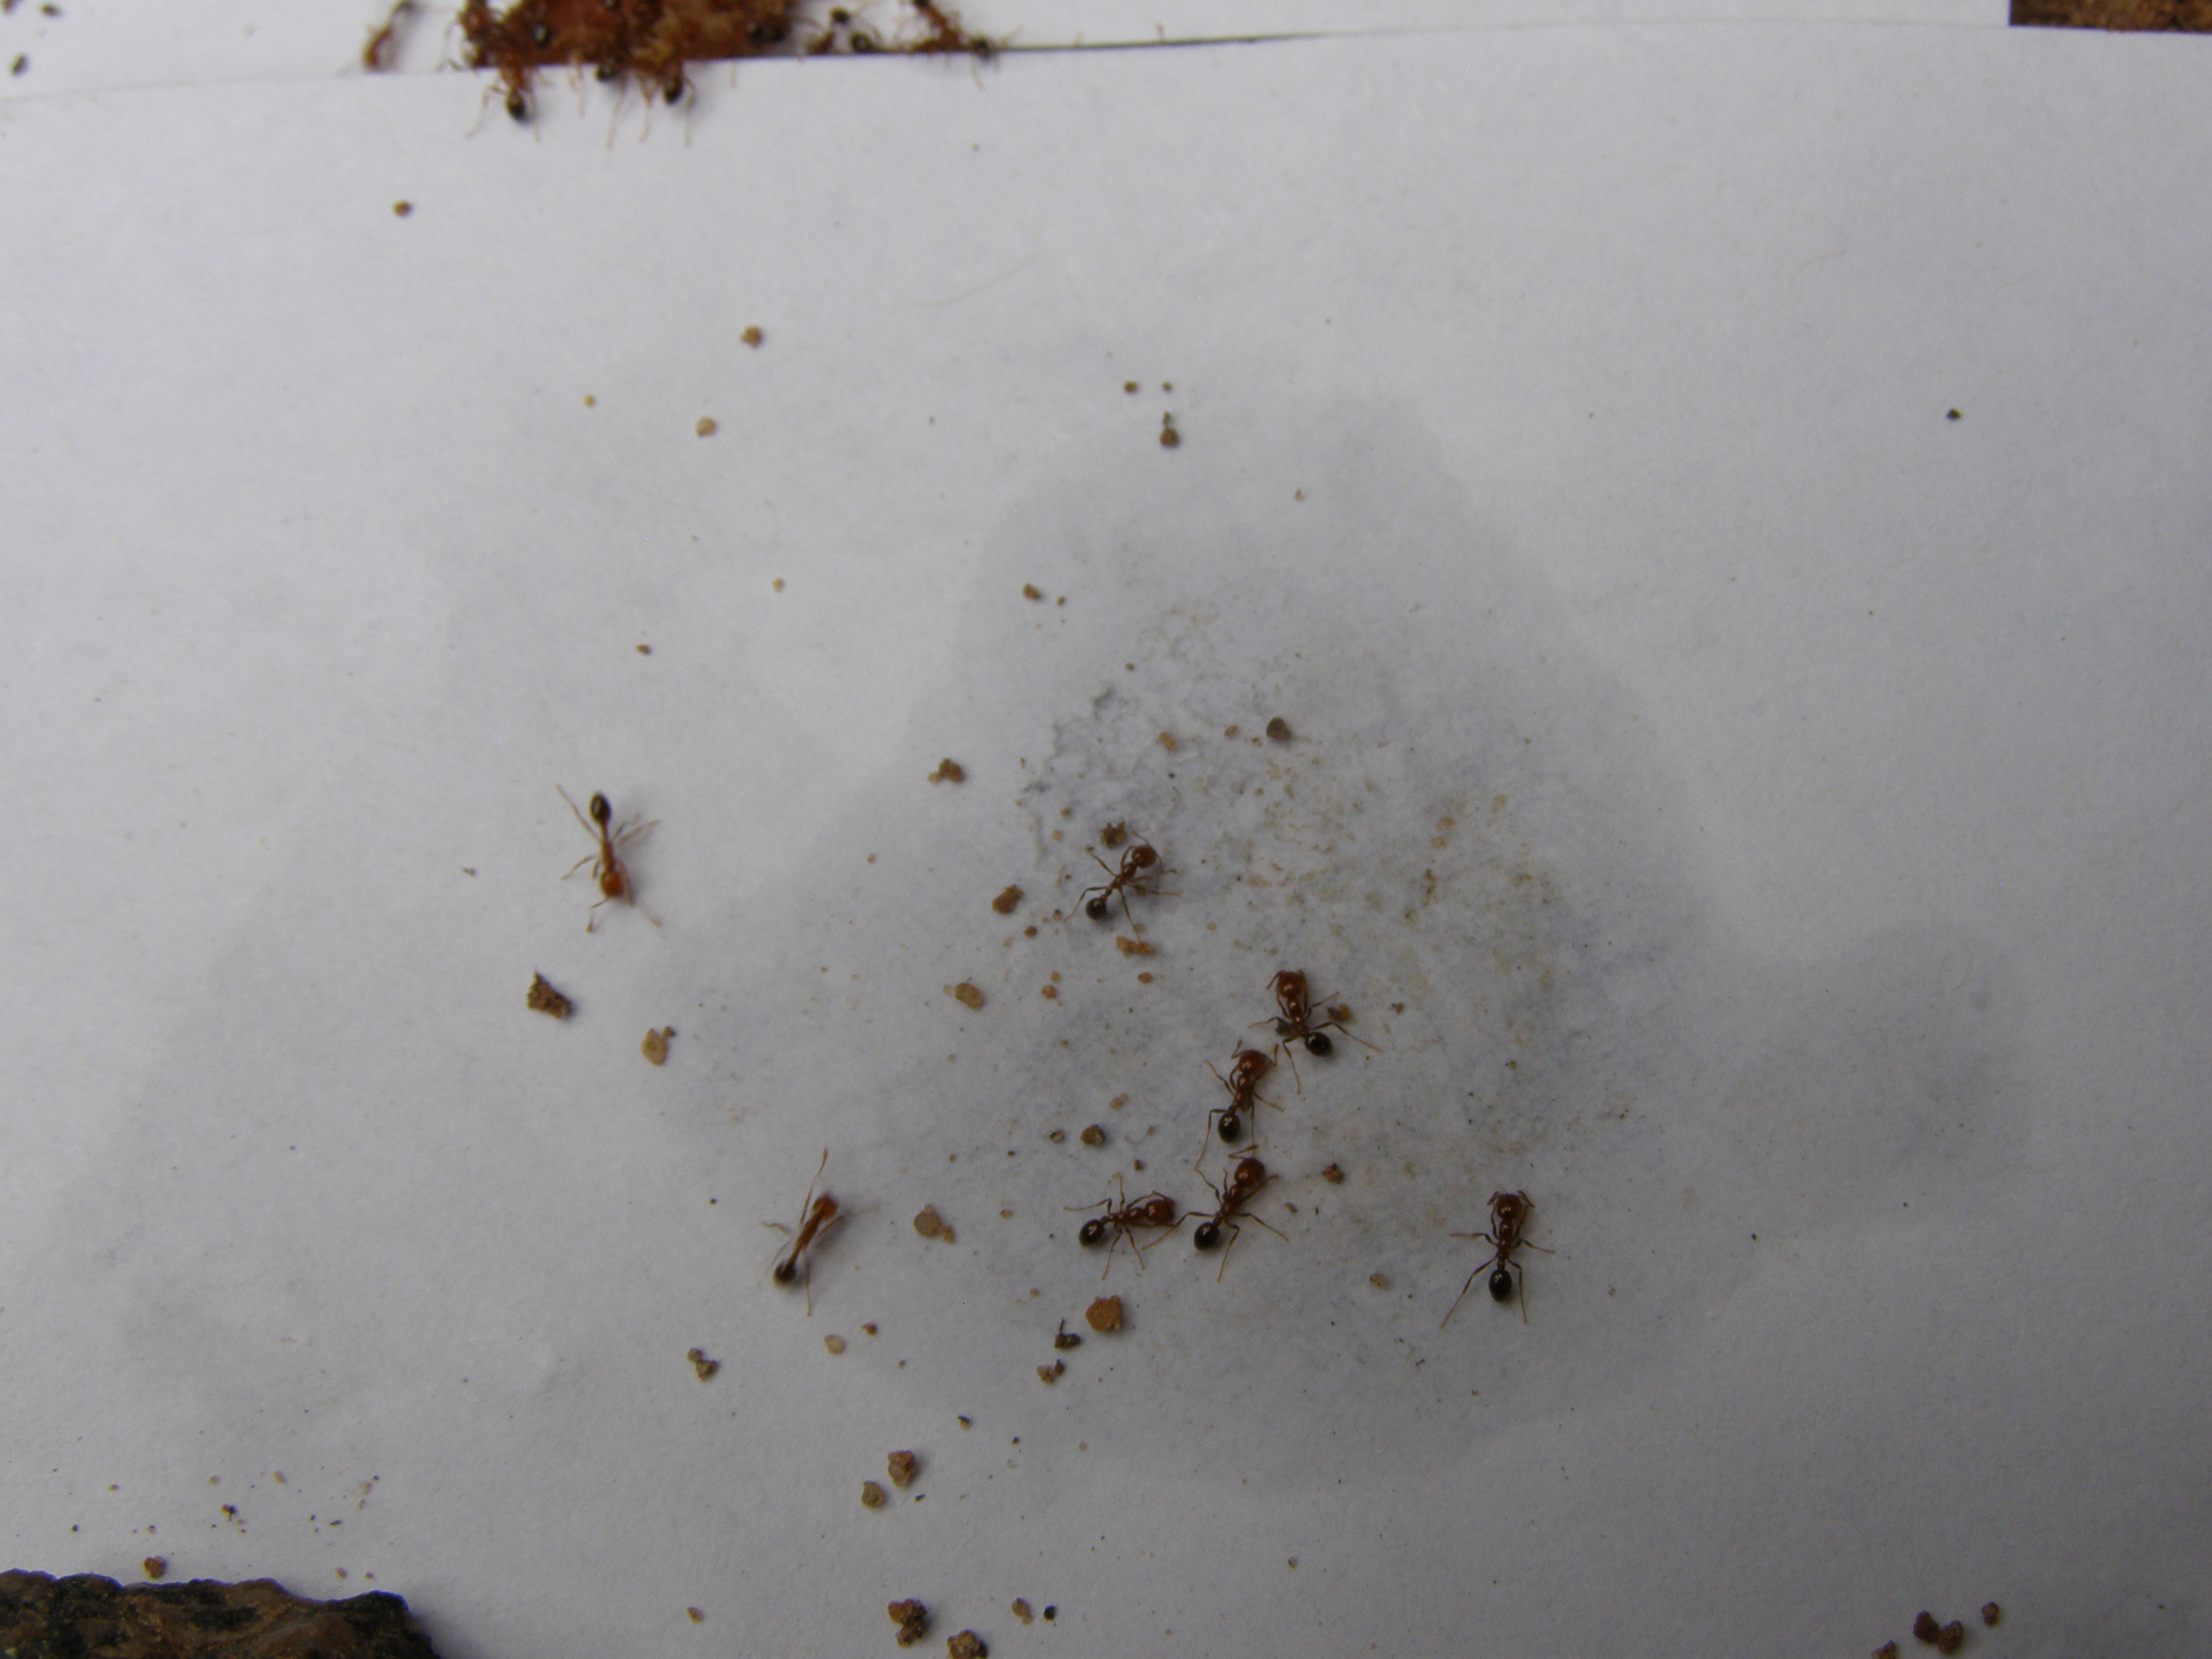Solenopsis_geminata: (1418, 1154, 1576, 1356), (536, 755, 686, 967), (742, 1129, 883, 1342), (1245, 939, 1386, 1100), (1050, 805, 1190, 957), (1179, 1141, 1301, 1291), (1052, 1157, 1186, 1291), (1184, 1030, 1287, 1148)
